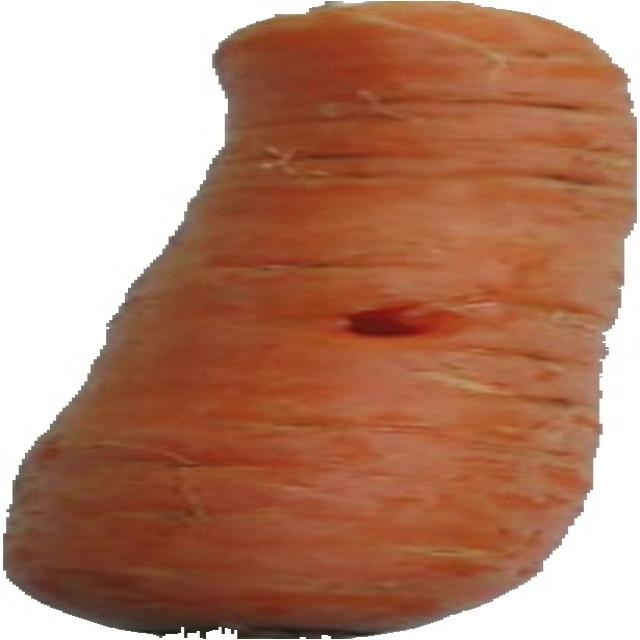carrot: (8, 2, 632, 638)
